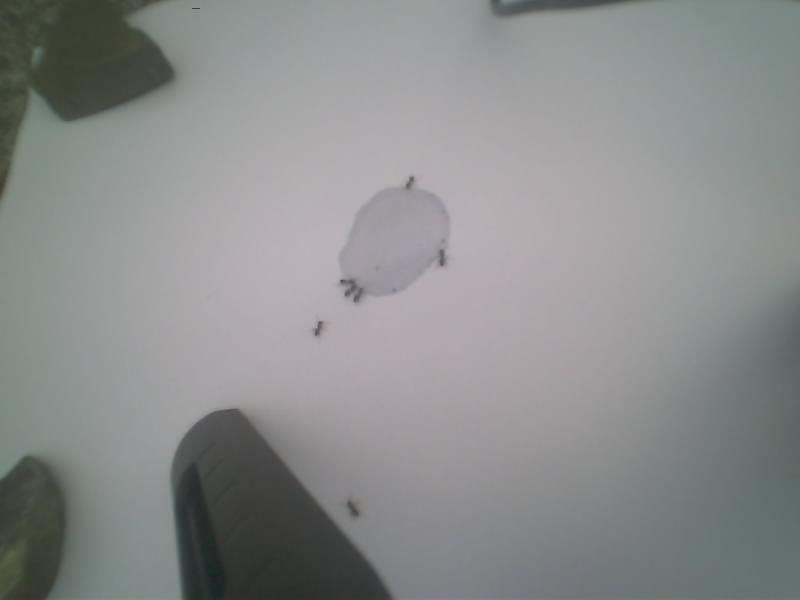Ant: (347, 501, 359, 518), (344, 284, 359, 296), (354, 288, 364, 304), (439, 250, 448, 267), (314, 322, 324, 337), (341, 279, 357, 287), (406, 177, 415, 190)
